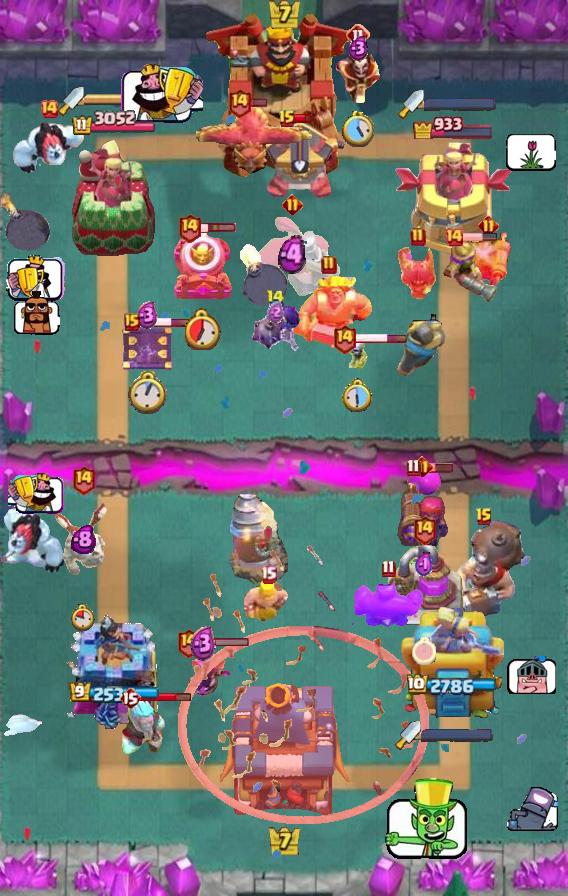archer: (244, 581, 292, 625)
baby-dragon: (237, 244, 289, 306), (1, 191, 52, 253)
bar: (395, 142, 514, 256), (399, 607, 507, 731), (70, 138, 158, 256)
bomb-tower: (440, 234, 498, 304)
electro-spirit: (278, 235, 306, 275), (190, 626, 216, 662), (71, 524, 96, 554), (136, 302, 158, 331), (348, 35, 369, 61), (415, 551, 433, 579), (267, 301, 284, 323)
elixir: (128, 371, 167, 415), (185, 308, 221, 350), (342, 111, 374, 147), (342, 378, 374, 413), (71, 603, 95, 631), (412, 637, 436, 665)
emote: (138, 316, 192, 328), (354, 332, 408, 343), (140, 693, 193, 704), (198, 637, 249, 648), (200, 222, 237, 234), (418, 462, 454, 474), (462, 232, 498, 242), (248, 96, 267, 107), (294, 112, 313, 123)
evolution-symbol: (174, 644, 232, 706)
firecracker: (395, 315, 446, 378)
goblin-ball: (248, 303, 302, 353)
goblin-cage: (171, 233, 235, 303)
goblin-hut: (286, 276, 372, 348)
golden-knight: (397, 243, 439, 303)
heal-spirit: (346, 339, 370, 371)
ice-spirit-evolution-symbol: (120, 323, 174, 373)
king-tower: (205, 11, 363, 181), (219, 678, 349, 826)
king-tower-bar: (84, 93, 156, 107), (424, 97, 496, 111), (421, 728, 493, 742)
lava-pup: (253, 118, 345, 200)
lumberjack: (332, 49, 384, 103)
magic-archer: (228, 493, 288, 585)
mega-minion: (396, 480, 448, 552)
miner: (406, 467, 442, 497)
mini-pekka: (53, 500, 113, 582)
mortar: (118, 694, 168, 758)
mother-witch: (196, 102, 314, 176)
pekka: (385, 545, 463, 627)
queen-tower: (65, 614, 162, 730)
rage: (0, 506, 68, 576), (11, 118, 87, 174)
selected: (71, 111, 157, 138), (407, 674, 499, 698), (413, 113, 496, 139), (68, 683, 159, 706)
skeleton: (381, 778, 471, 864), (119, 62, 203, 126), (6, 255, 66, 301), (7, 472, 64, 515), (506, 787, 559, 833), (12, 289, 59, 334), (506, 133, 556, 171), (506, 656, 556, 694)
skeleton-barrel: (177, 544, 430, 824)
text: (227, 86, 252, 117), (332, 322, 357, 353), (71, 464, 96, 495), (412, 515, 437, 546), (176, 627, 201, 658), (178, 212, 202, 243), (346, 23, 370, 47), (119, 686, 141, 710), (477, 215, 499, 237), (282, 194, 303, 215), (412, 455, 433, 476), (39, 99, 59, 119), (444, 227, 464, 247), (266, 288, 285, 307), (278, 109, 296, 129), (475, 507, 493, 527), (259, 565, 277, 583), (410, 227, 426, 247), (321, 255, 337, 275), (124, 313, 140, 331), (406, 458, 421, 477), (381, 559, 396, 578)
tombstone: (465, 230, 511, 292)
tornado: (352, 580, 424, 630)
wall-breaker-evolution: (243, 215, 341, 301)
wizard: (440, 518, 528, 626)
